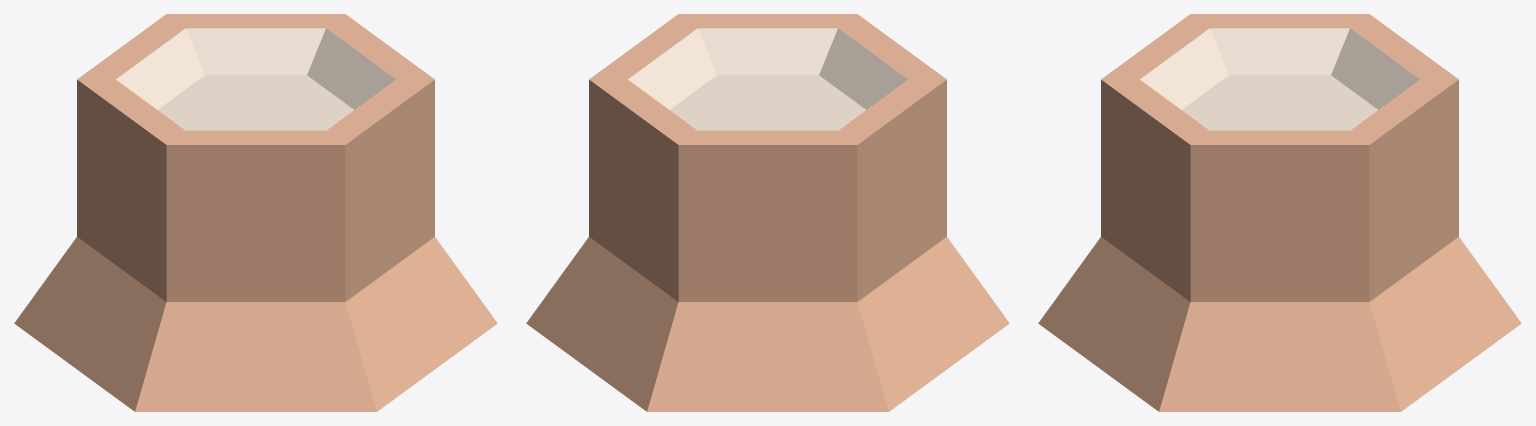
Rendered from stump_round.gltf.
3 renders of one model, left to right at view 1: azimuth 30°, elevation 25°; view 2: azimuth 150°, elevation 25°; view 3: azimuth 270°, elevation 25°, orthographic.
Parts seen in each view (by area): view 1: stump_round; view 2: stump_round; view 3: stump_round.
Boxes of the visible parts, x1,y1,x2,y2 form: stump_round: (14, 14, 497, 411); stump_round: (526, 14, 1009, 411); stump_round: (1038, 14, 1521, 411).
Bounding box in the file's own units: 0.3213 × 0.2065 × 0.371.
